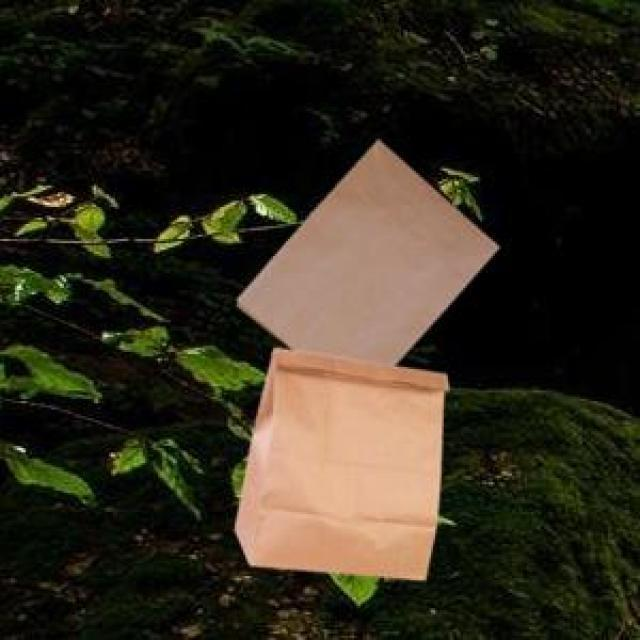paper: (233, 137, 495, 363), (230, 344, 444, 576)
